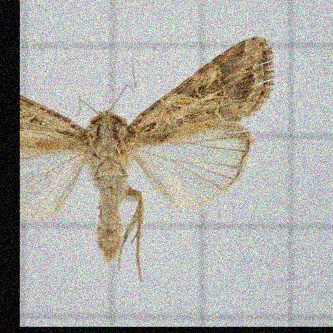Spodoptera litura: (20, 36, 274, 281)
